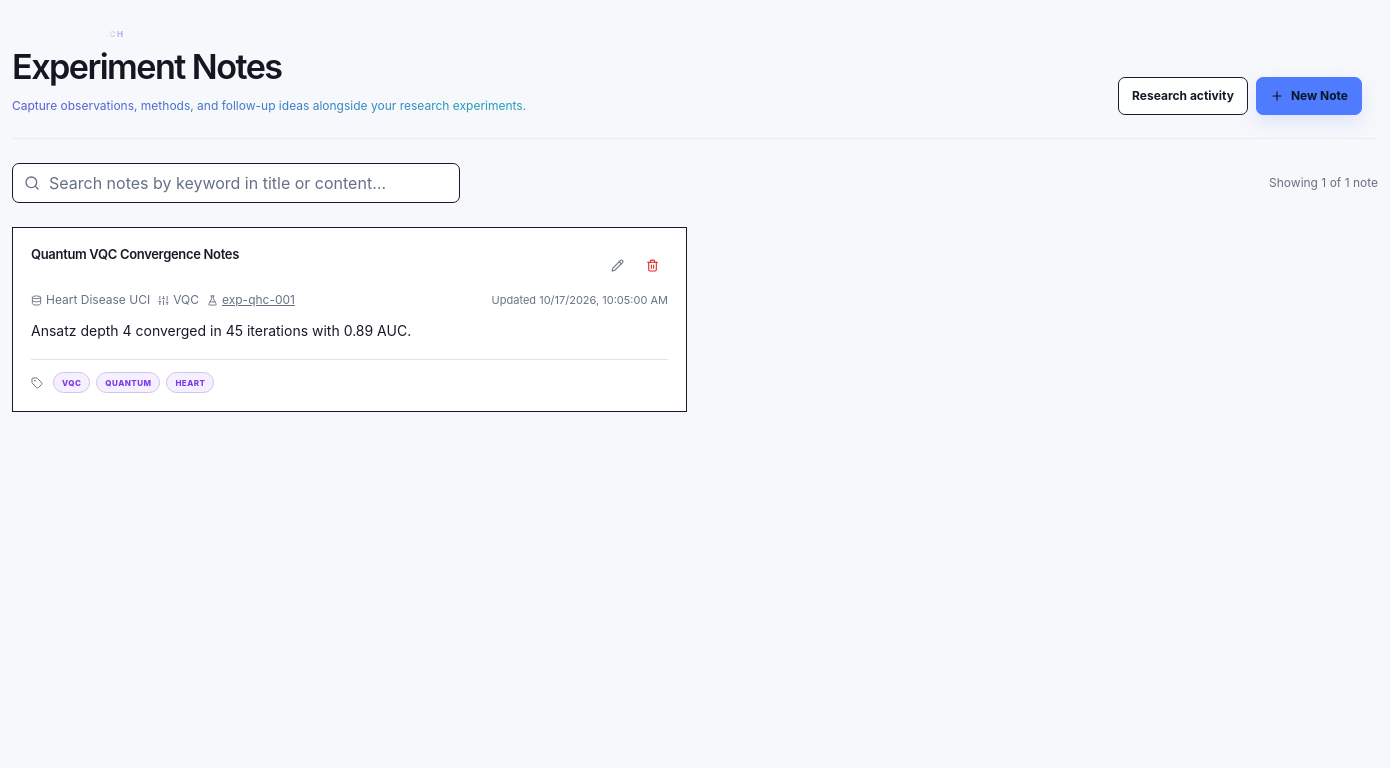
it: Experiment Notes UI — Edit & Delete Operations › populates editor when Edit is clicked and updates note on save
The width and height of the screenshot is (1390, 768).
Expected: the heading "Quantum VQC Convergence Notes" is shown, [31, 246, 239, 264]
Click Edit
Click the button titled "Edit note": coordinates (618, 265) [602, 246, 633, 284]
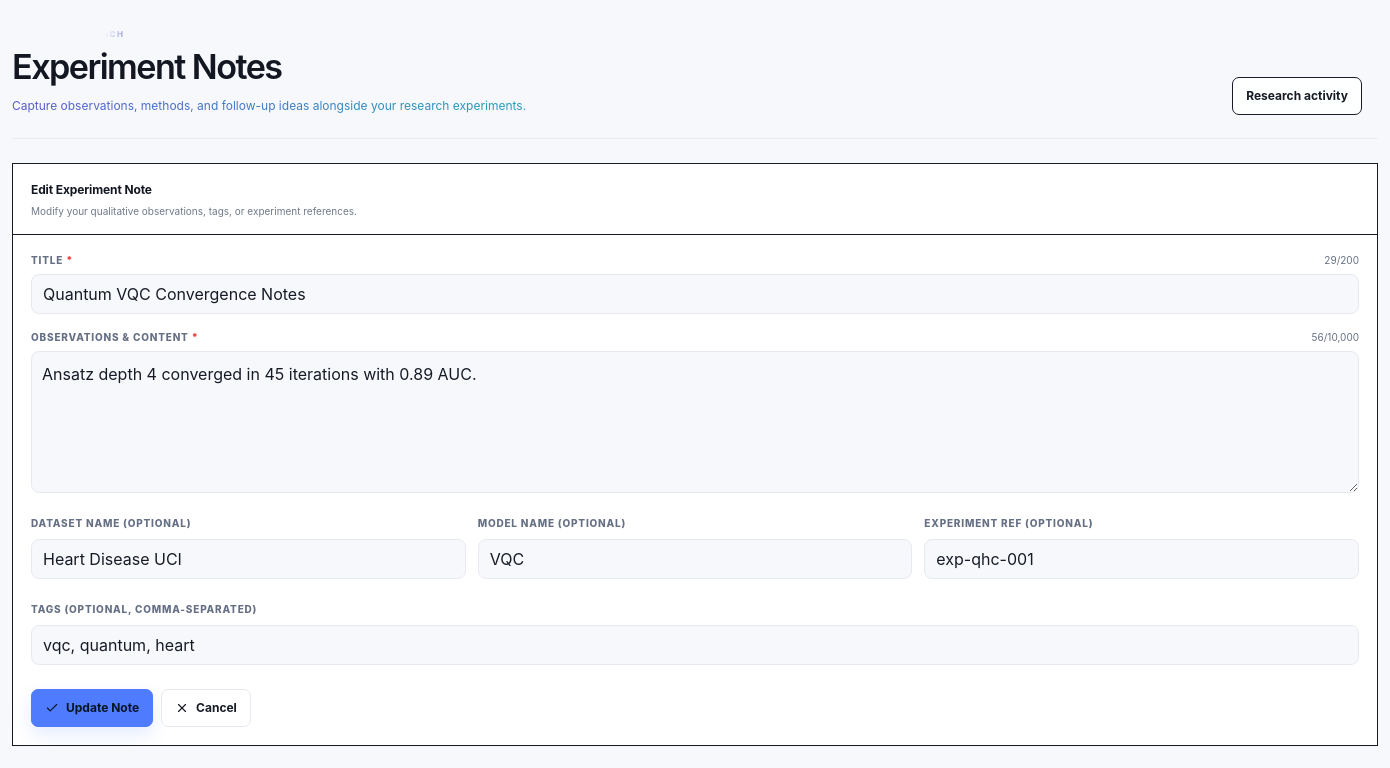
Now the heading "Edit Experiment Note" is shown, box [31, 182, 152, 197]
Now the field with placeholder "e.g. VQC Ansatz Depth" holds "Quantum VQC Convergence Notes"
Replace the text in the field with placeholder "e.g. VQC Ansatz Depth" with "Revised Quantum Title": coordinates (695, 294) [31, 274, 1359, 314]
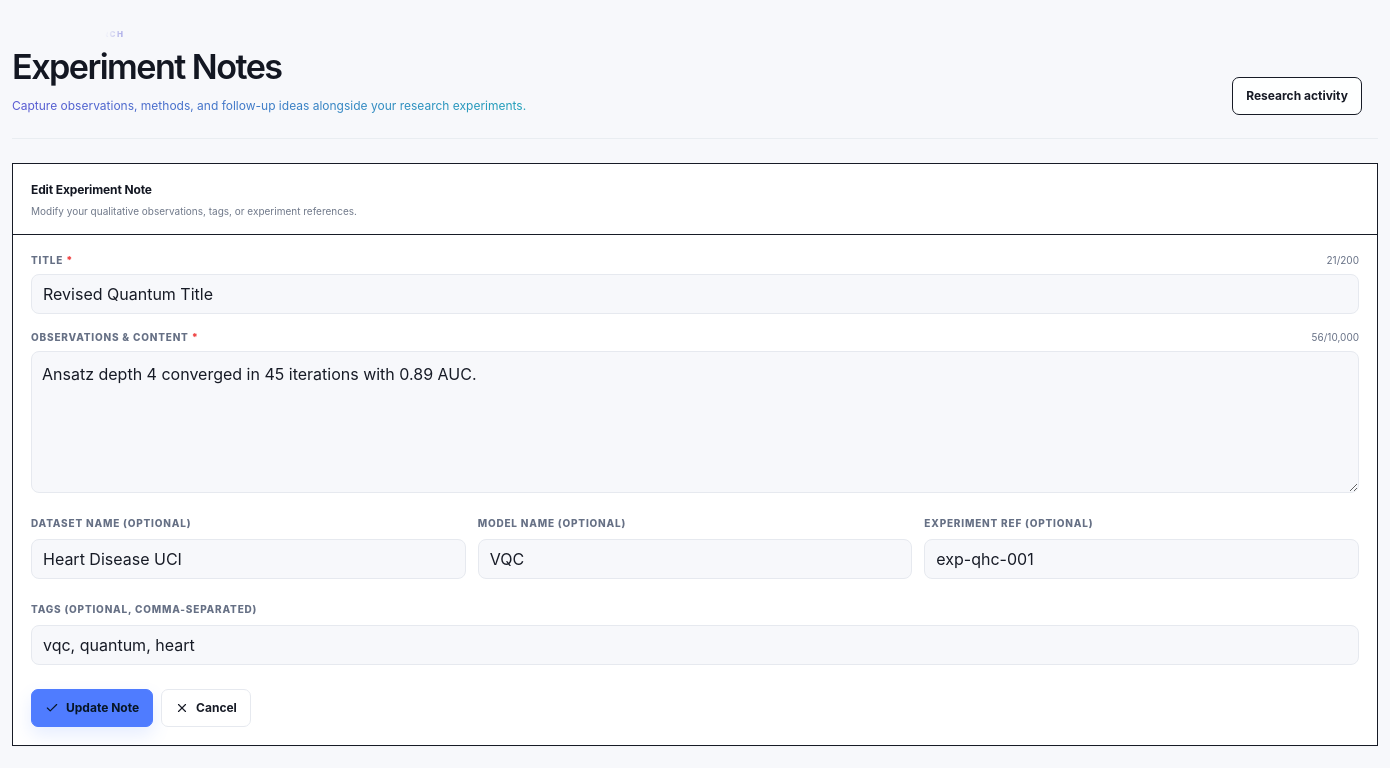
Click the button "Update Note": coordinates (92, 708) [31, 689, 153, 727]
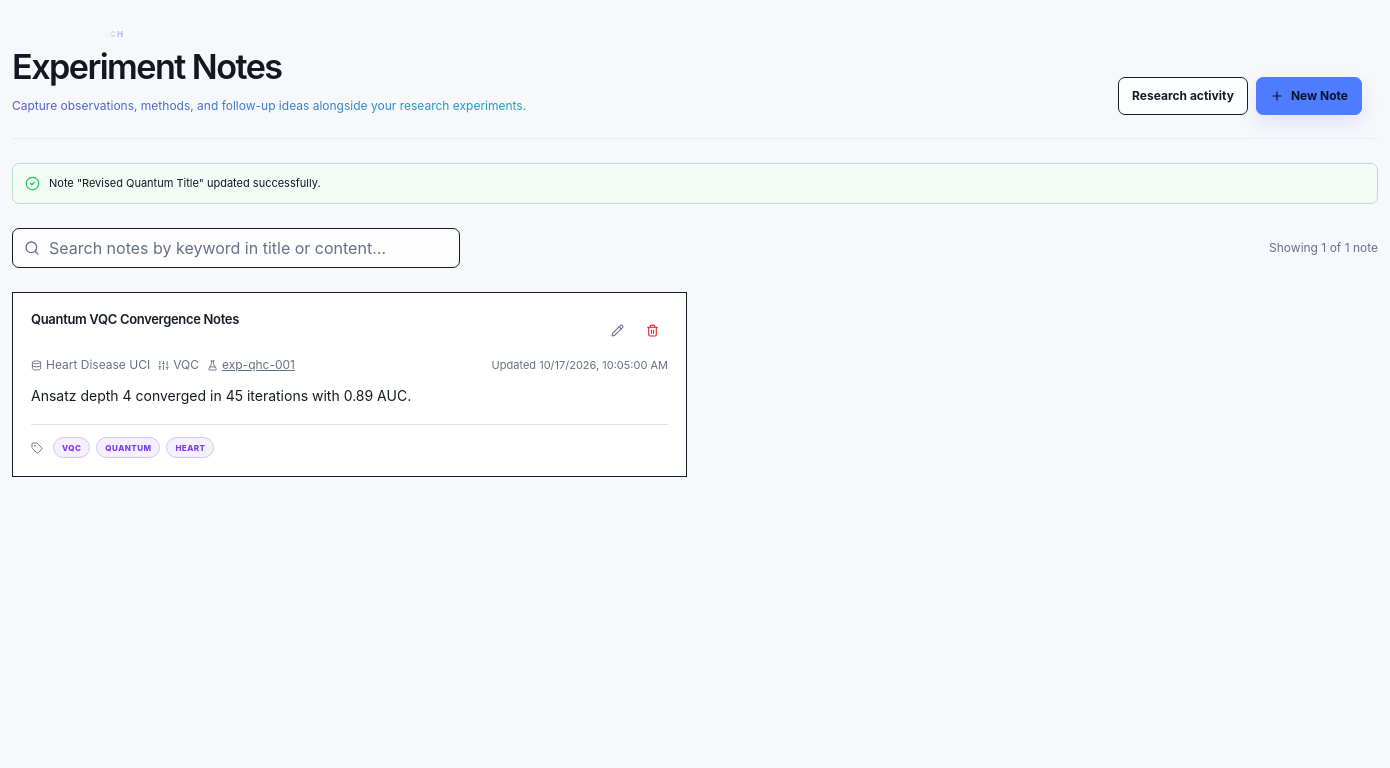
Now the text "Note \"Revised Quantum Title\" updated successfully." is shown, box [49, 176, 321, 190]
